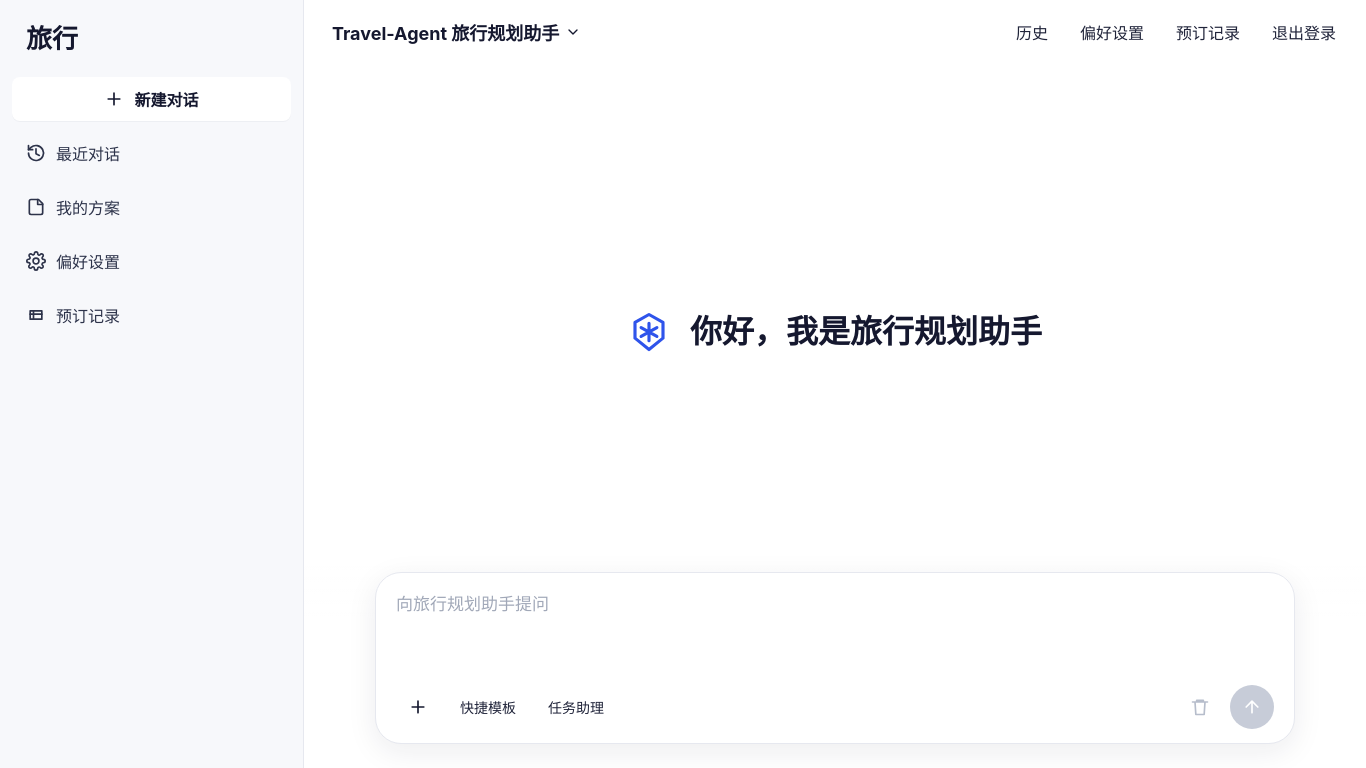
Test: creates a fake booking and loads it from booking history
This screenshot has width=1366, height=768.
Type "帮我规划杭州两日游" into the text box named "旅行需求" at (835, 632), box x1=396 y1=591 x2=1274 y2=673
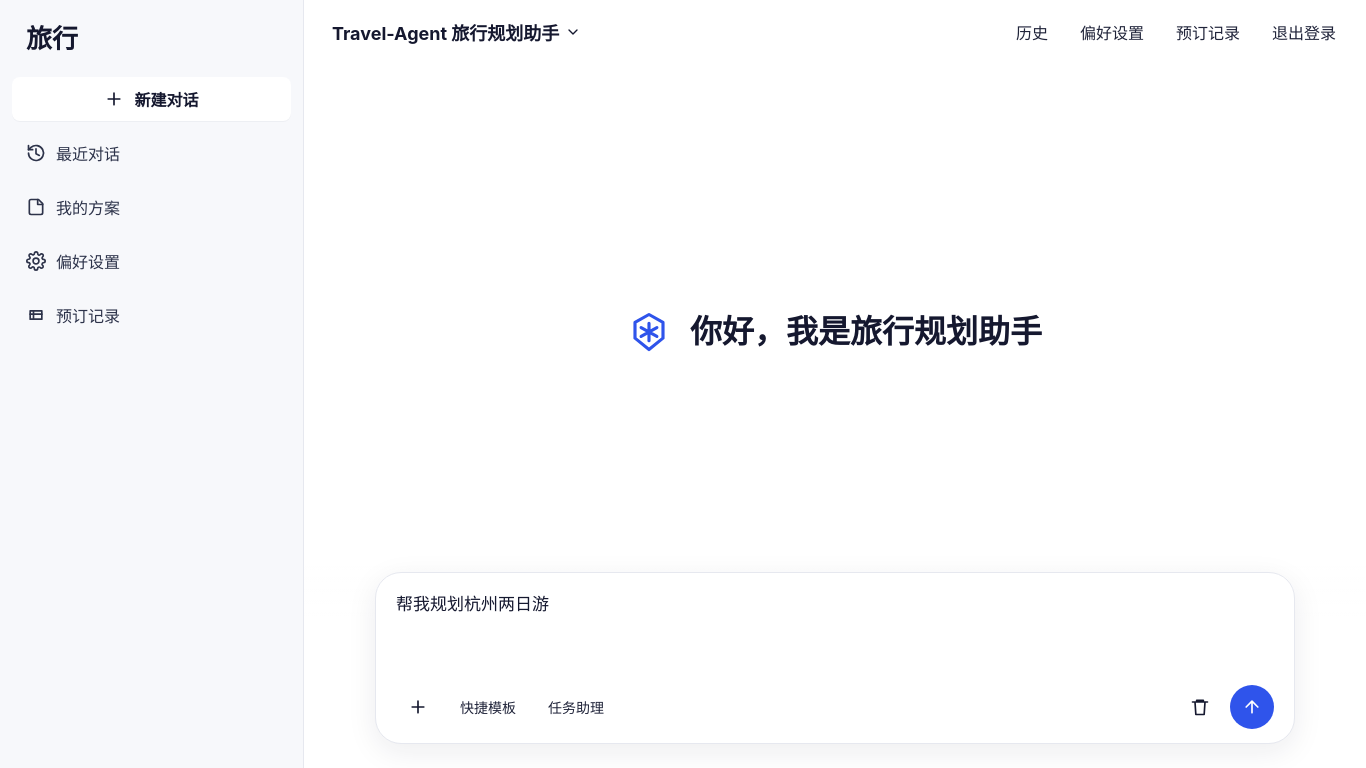
Click the button named "发送" at (1252, 707), box x1=1230 y1=685 x2=1274 y2=729
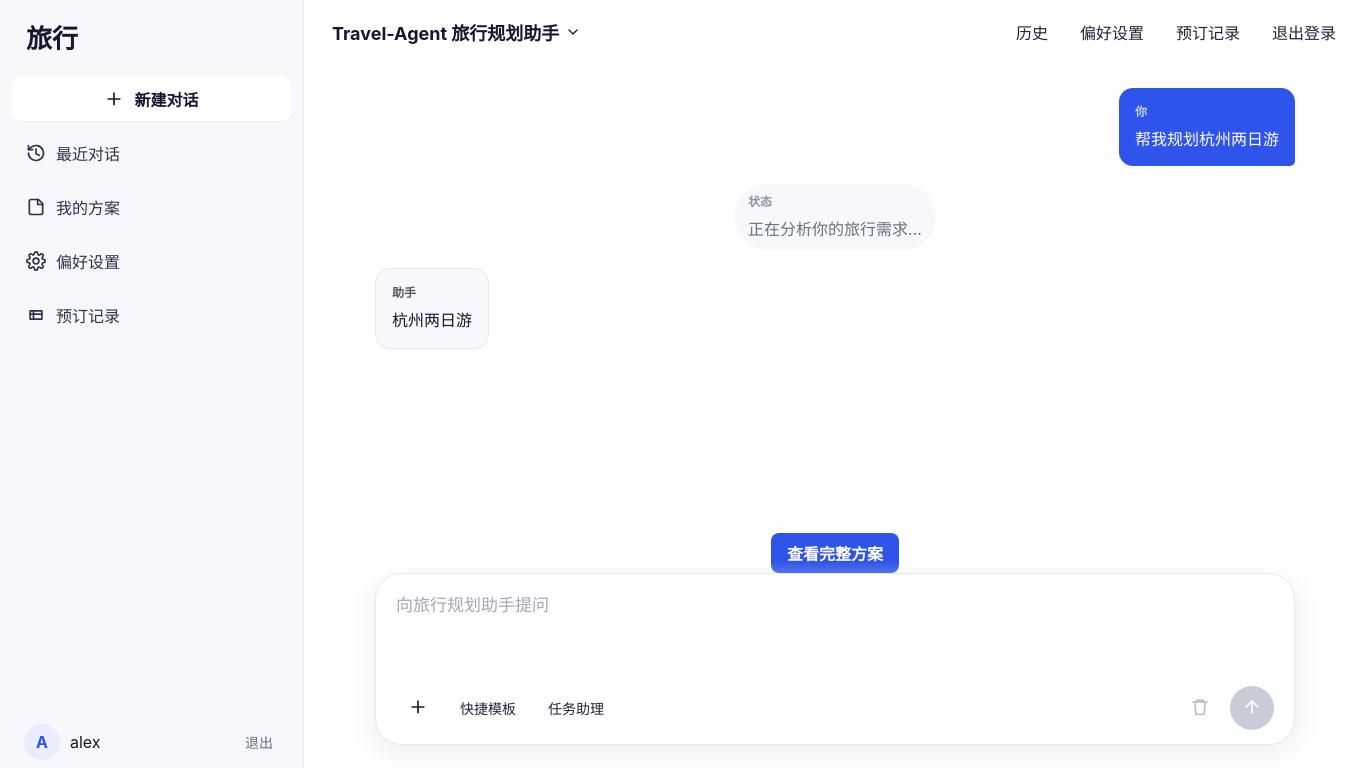
Now the text "杭州两日游" is shown, box x1=392 y1=307 x2=472 y2=334
Click the button "查看完整方案" at (835, 553), box x1=771 y1=533 x2=899 y2=573
(page scrolled)
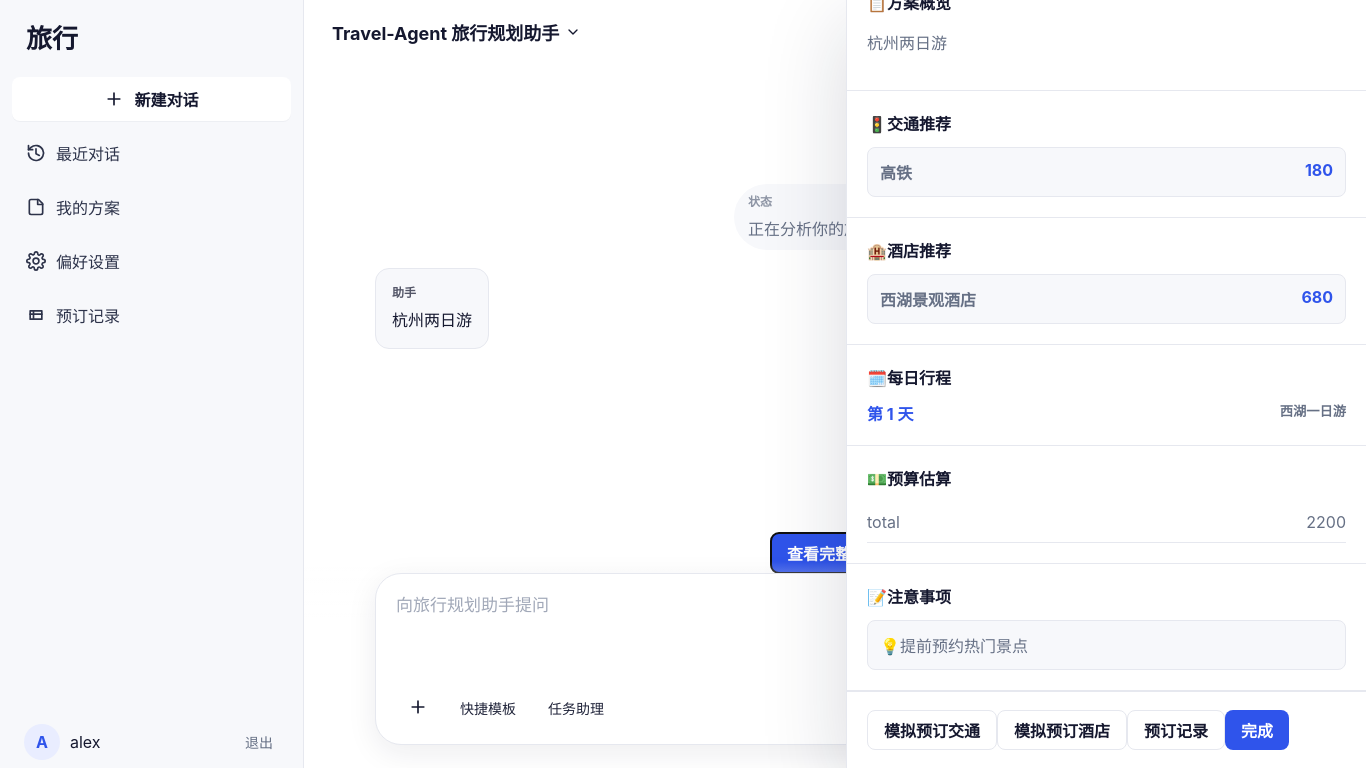
Click the button "模拟预订酒店" at (1062, 730), box x1=997 y1=710 x2=1127 y2=750
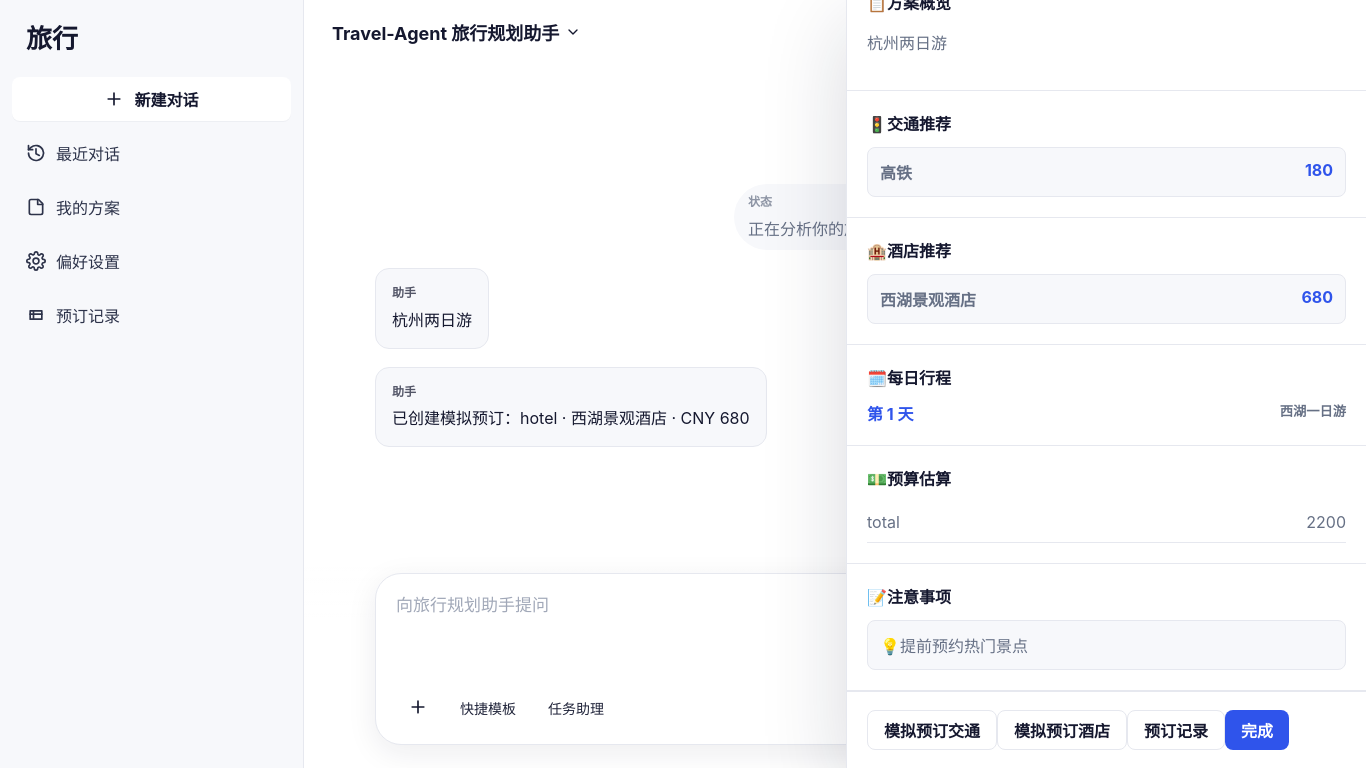
Now the text "已创建模拟预订：hotel · 西湖景观酒店 · CNY 680" is shown, box x1=392 y1=405 x2=750 y2=432
Click the button "预订记录" below "提前预约热门景点" at (1176, 730), box x1=1127 y1=710 x2=1225 y2=750
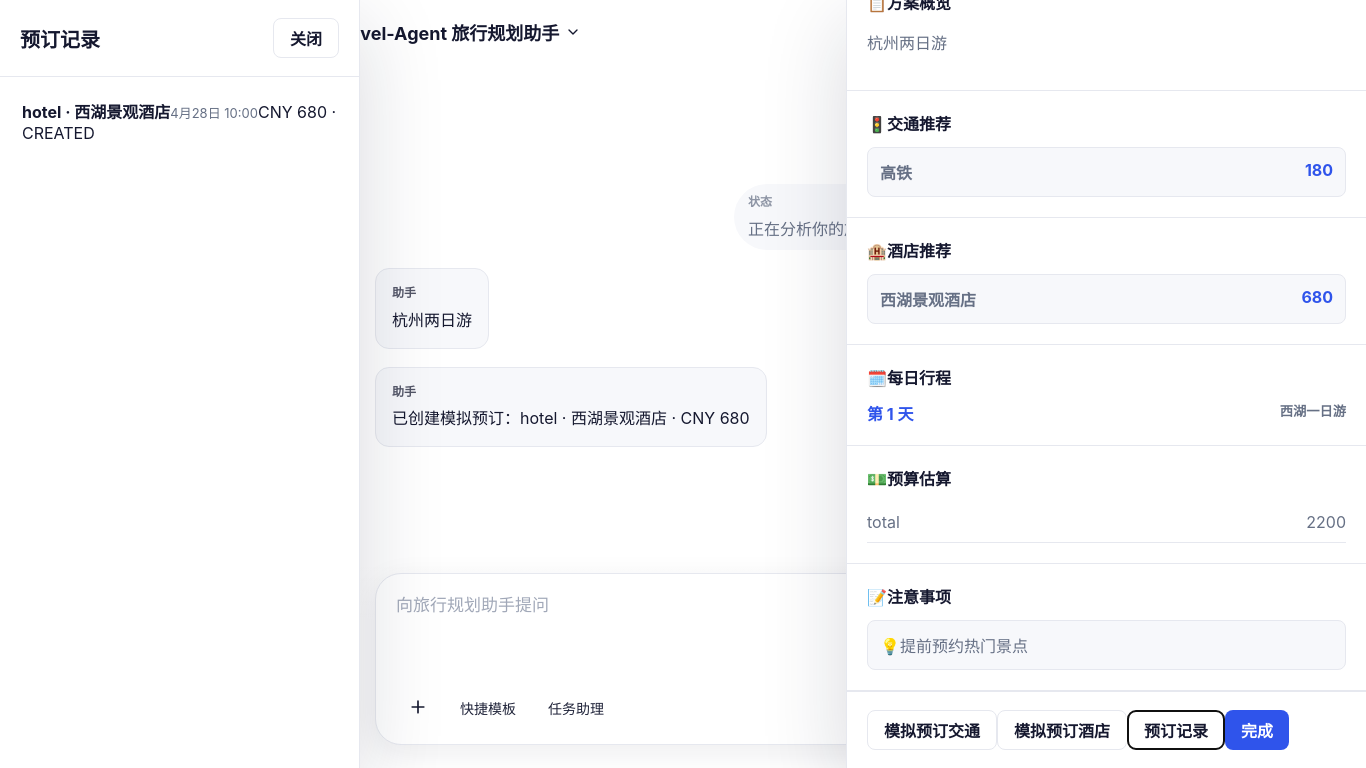
Now the text "hotel · 西湖景观酒店" is shown, box x1=22 y1=102 x2=170 y2=122
